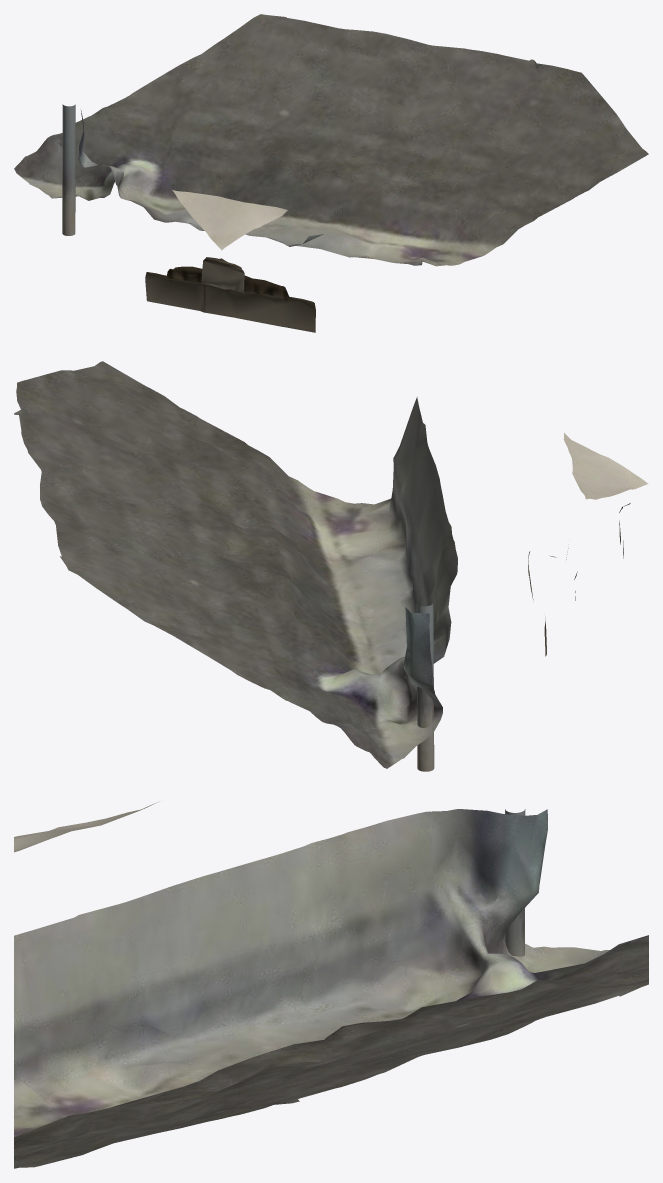
3 views of the same model, one above another, from view 1: azimuth 30°, elevation 25°; view 2: azimuth 150°, elevation 25°; view 3: azimuth 270°, elevation 25° (orthographic). The views are drawn at different scales.
Size of the model in its own units: 4.31 by 1.25 by 3.62.
1 material, 1 textured.
